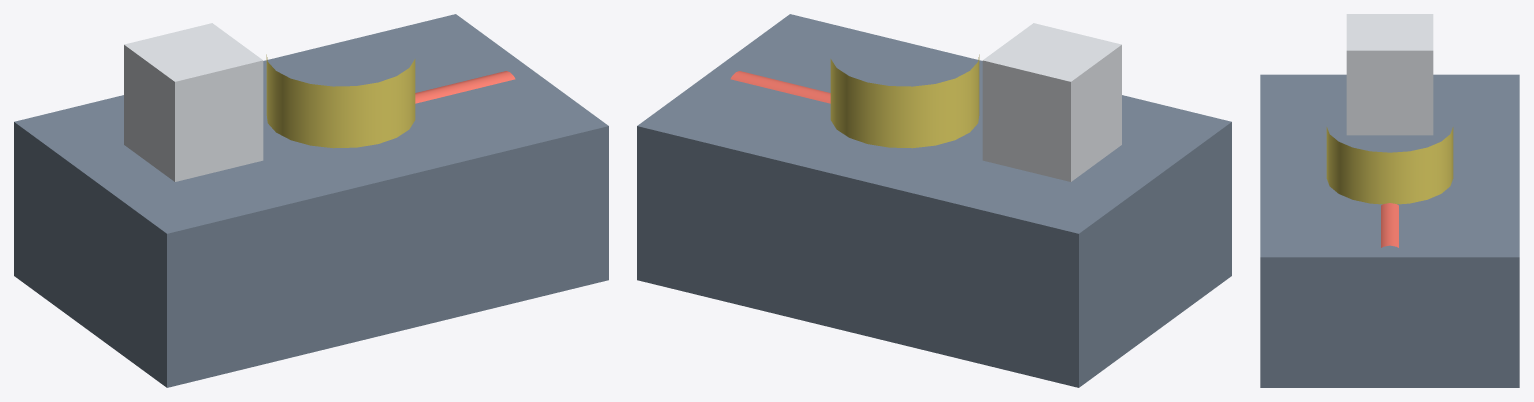
The model's file is superheterodyne_radio_receiver.glb.
3 renders of one model, left to right at view 1: azimuth 30°, elevation 25°; view 2: azimuth 150°, elevation 25°; view 3: azimuth 270°, elevation 25°, orthographic. The views are drawn at different scales.
Parts seen in each view (by area): view 1: SuperheterodyneRFFrontEndChassis, IFCanShieldTransformer455kHz, LocalOscillatorGangedCapacitor, AudioEnvelopeDetectorDiode; view 2: SuperheterodyneRFFrontEndChassis, IFCanShieldTransformer455kHz, LocalOscillatorGangedCapacitor, AudioEnvelopeDetectorDiode; view 3: SuperheterodyneRFFrontEndChassis, IFCanShieldTransformer455kHz, LocalOscillatorGangedCapacitor, AudioEnvelopeDetectorDiode.
Part boxes in pixels (bbox=[...]): SuperheterodyneRFFrontEndChassis: bbox=[14, 14, 608, 387]; IFCanShieldTransformer455kHz: bbox=[124, 23, 263, 181]; LocalOscillatorGangedCapacitor: bbox=[266, 54, 415, 148]; AudioEnvelopeDetectorDiode: bbox=[415, 71, 515, 103]; SuperheterodyneRFFrontEndChassis: bbox=[637, 14, 1231, 387]; IFCanShieldTransformer455kHz: bbox=[982, 23, 1121, 181]; LocalOscillatorGangedCapacitor: bbox=[830, 54, 979, 148]; AudioEnvelopeDetectorDiode: bbox=[730, 71, 830, 103]; SuperheterodyneRFFrontEndChassis: bbox=[1260, 74, 1519, 387]; IFCanShieldTransformer455kHz: bbox=[1346, 14, 1433, 135]; LocalOscillatorGangedCapacitor: bbox=[1326, 127, 1453, 204]; AudioEnvelopeDetectorDiode: bbox=[1381, 203, 1398, 247].
Size of the model in its own units: 1.5 by 0.825 by 0.9.
